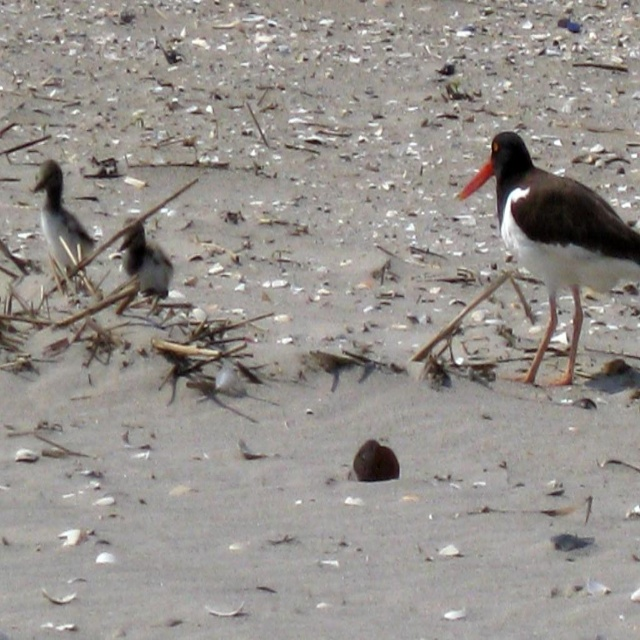Duck: (451, 125, 640, 399), (22, 157, 106, 293), (116, 217, 175, 297)
